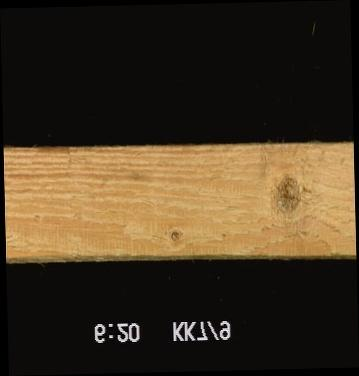small_knot: (165, 225, 184, 245)
sound_knot: (268, 170, 305, 220)
